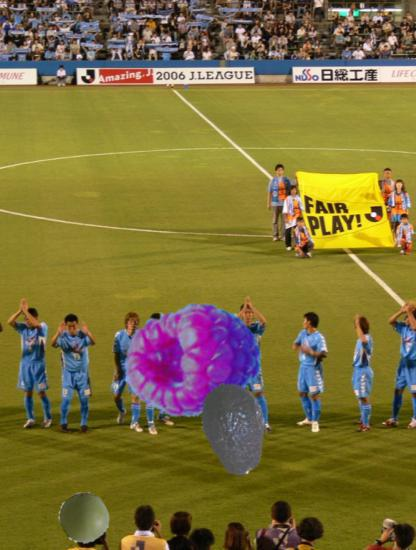Avocado: (188, 382, 282, 476)
Grape: (59, 492, 111, 544)
Raspberry: (123, 292, 258, 427)
